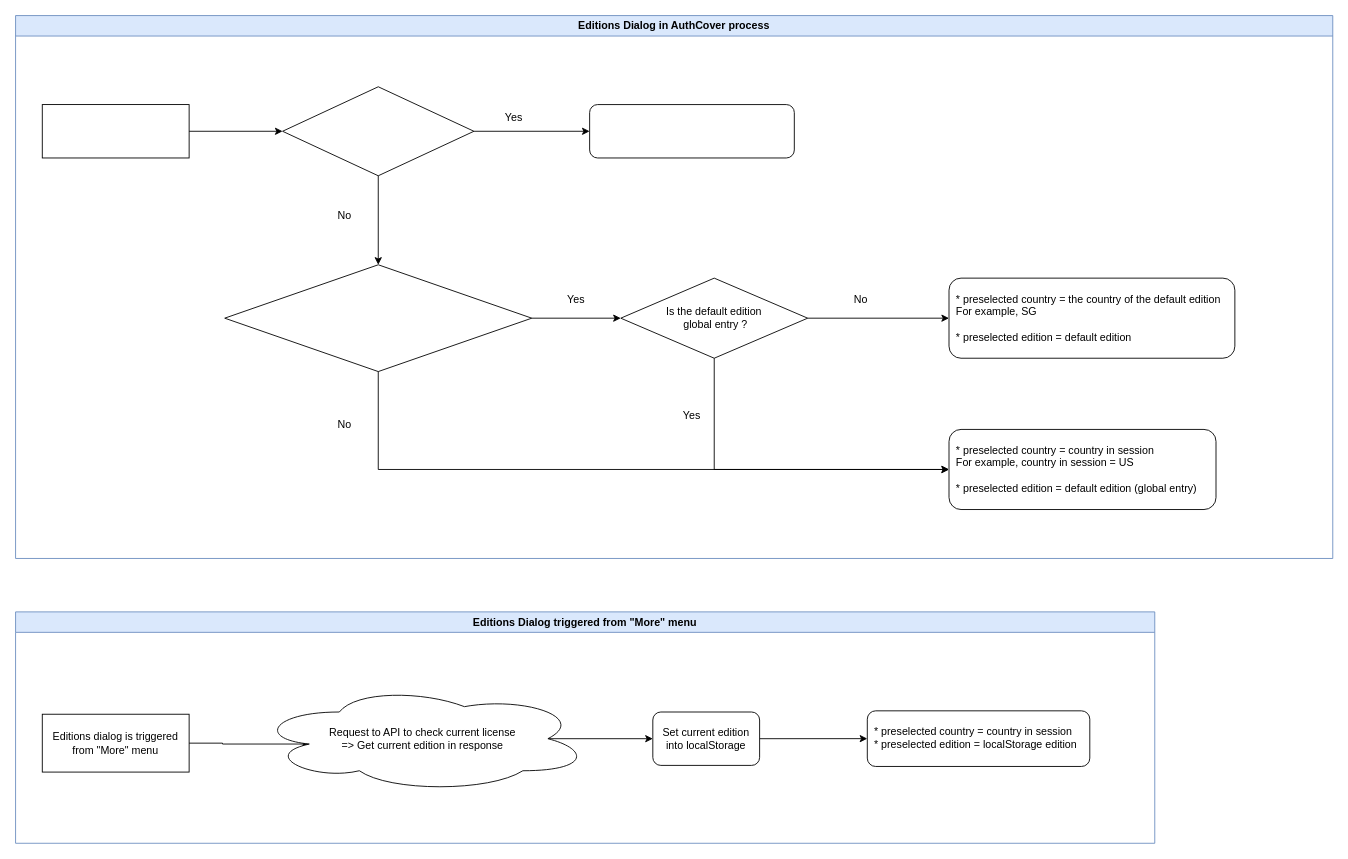
Image size: 1348x859. Some labels were removed from this diagram. The box of each missing label's shape, as (x1, y1, x2, y2) in pixels:
* preselected country = AU * preselected edition = single + propack: (589, 104, 794, 158)
Does user have default edition ? => session.orgSettings.DefaultEdition: (224, 264, 532, 372)
Editions dialog is triggered from AuthCover process: (41, 104, 189, 158)
Is user a student? => session.isStudent: (282, 86, 474, 176)
